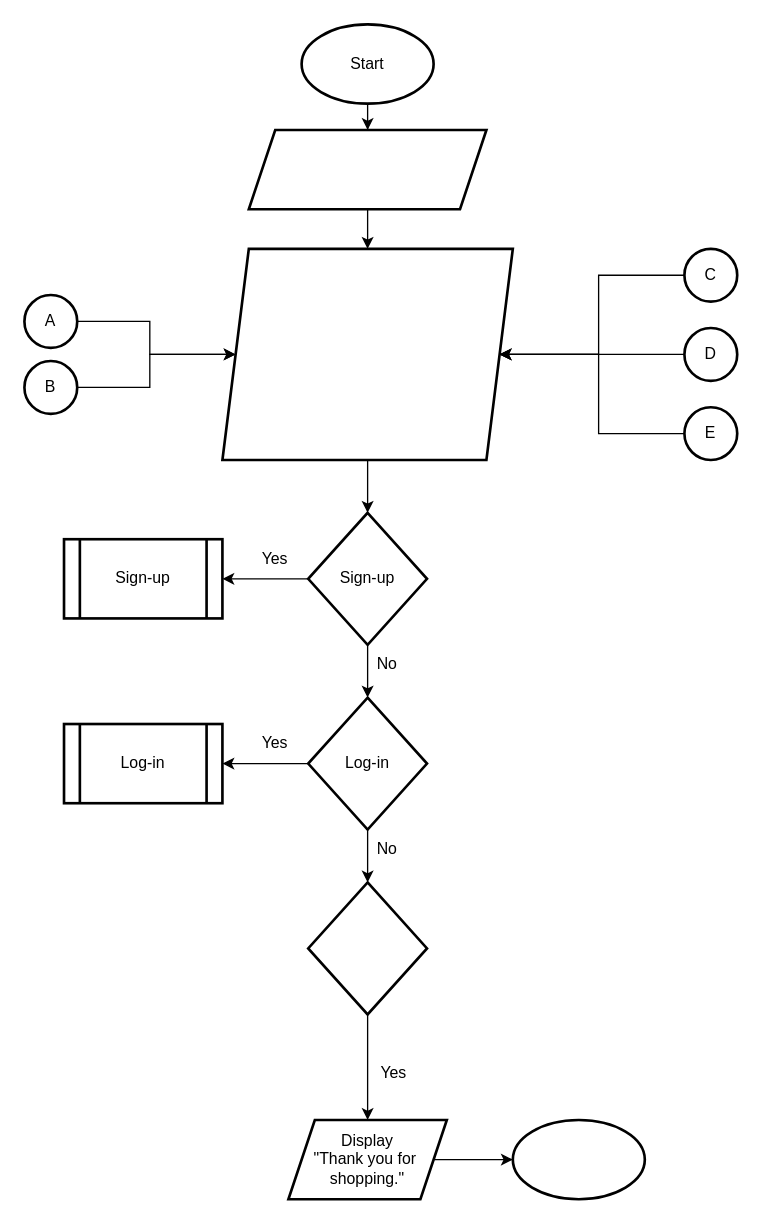
Some shapes in this 760 by 1222 pixel diagram are drawn without their labels. The box of each missing label's shape, as (x1, y1, x2, y2) in pixels:
3. Exit: (306, 880, 428, 1015)
Display 1. Log in 2. Sign up 3. Exit: (220, 247, 513, 461)
End: (511, 1118, 645, 1200)
input choice: (247, 128, 487, 210)
